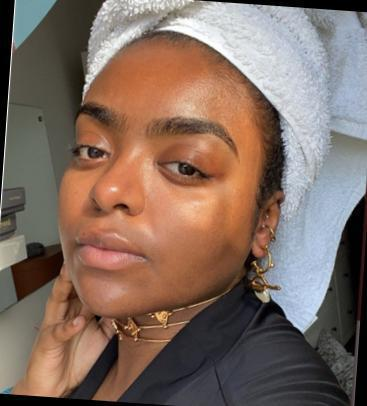Sober: (59, 77, 251, 290)
